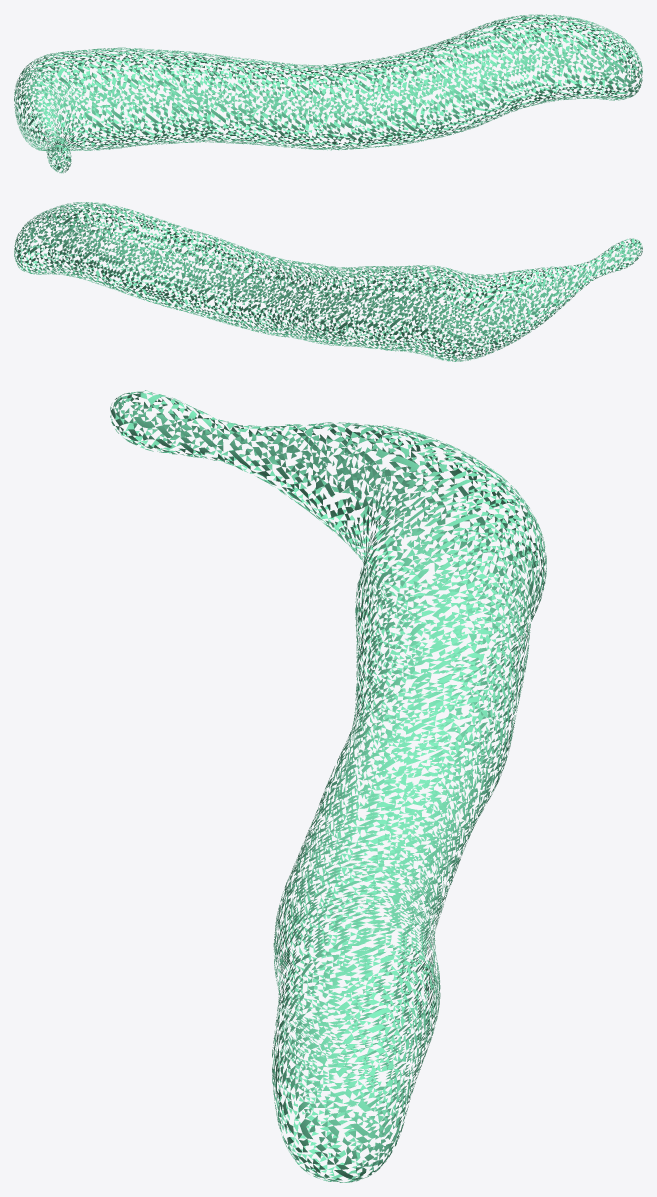
The model's file is healthy.glb.
The picture shows the model from 3 angles, top to bottom: view 1: azimuth 30°, elevation 25°; view 2: azimuth 150°, elevation 25°; view 3: azimuth 270°, elevation 25°; orthographic projection. The views are drawn at different scales.
Size of the model in its own units: 126 by 27.68 by 41.77.
